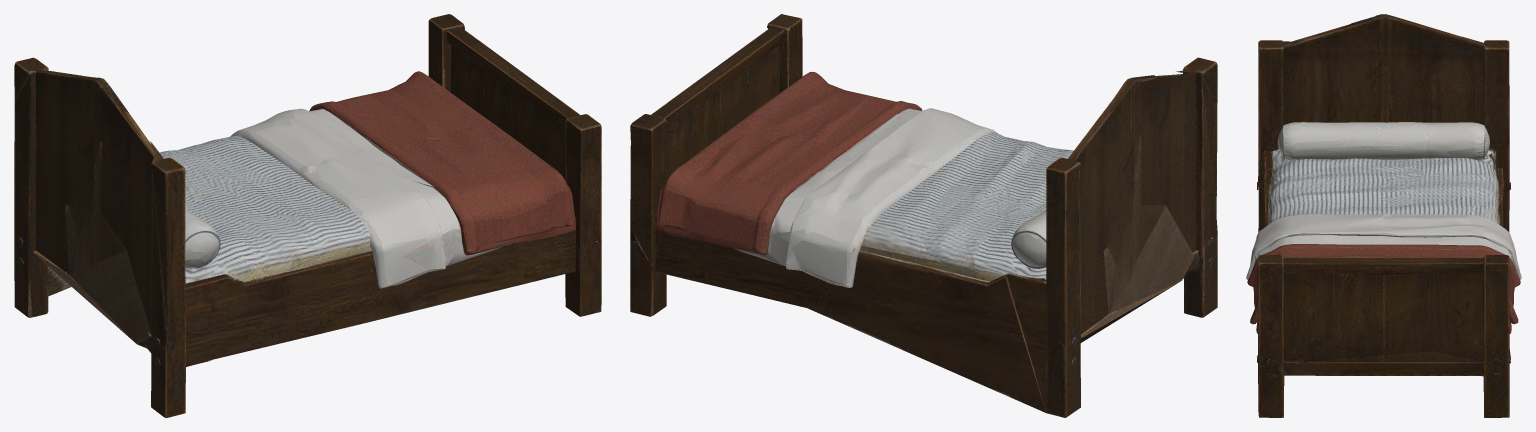
The model's file is bed_box_master.glb.
3 views of the same model, side by side, from view 1: azimuth 30°, elevation 25°; view 2: azimuth 150°, elevation 25°; view 3: azimuth 270°, elevation 25° (orthographic). The views are drawn at different scales.
Visible parts, largest first — view 1: bed_box_master; view 2: bed_box_master; view 3: bed_box_master.
Part boxes in pixels (x1,y1,x2,y2): bed_box_master: (14,14,601,417); bed_box_master: (630,14,1217,417); bed_box_master: (1246,14,1521,417).
Size of the model in its own units: 2.05 by 1.25 by 1.35.
1 material, 1 textured.
